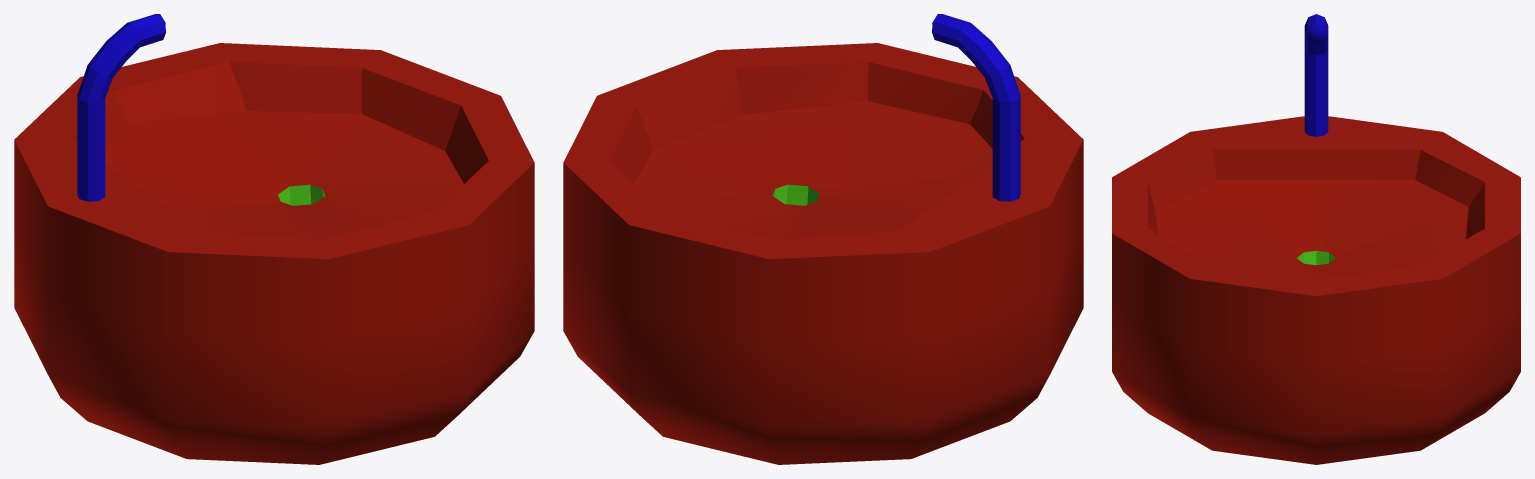
Rendered from P_Lavabo_Colored_Unbreakable.fbx.
The picture shows the model from 3 angles, left to right: view 1: azimuth 30°, elevation 25°; view 2: azimuth 150°, elevation 25°; view 3: azimuth 270°, elevation 25°; orthographic projection. The views are drawn at different scales.
Visible parts, largest first — view 1: P_Lavabo_Colored_Unbreakable; view 2: P_Lavabo_Colored_Unbreakable; view 3: P_Lavabo_Colored_Unbreakable.
Boxes of the visible parts, <box> form: P_Lavabo_Colored_Unbreakable: <box>14,14,534,464</box>; P_Lavabo_Colored_Unbreakable: <box>563,14,1083,464</box>; P_Lavabo_Colored_Unbreakable: <box>1112,14,1520,464</box>.
Bounding box in the file's own units: 34.81 × 28.61 × 33.11.
